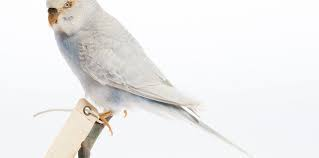budgie: (45, 1, 221, 137)
